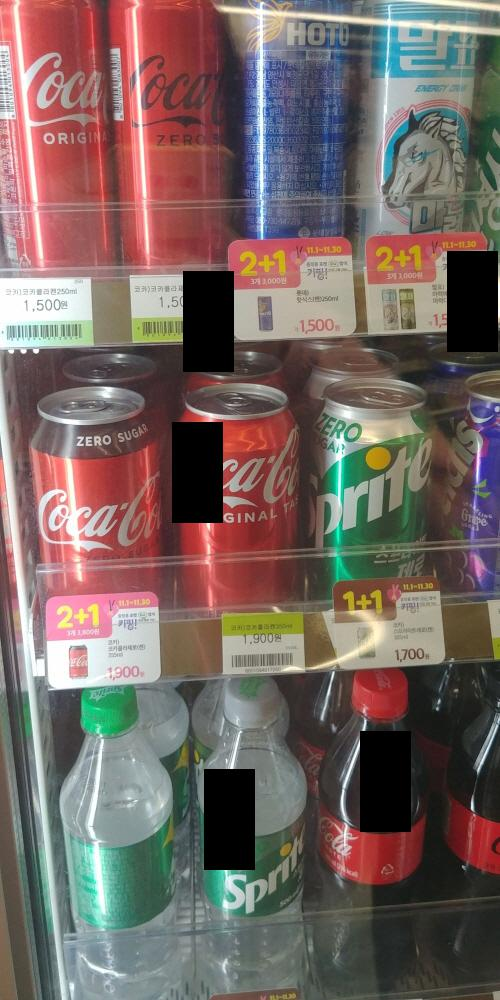cocacola_zero: (8, 395, 185, 612)
sprite_zero: (196, 678, 330, 993)
